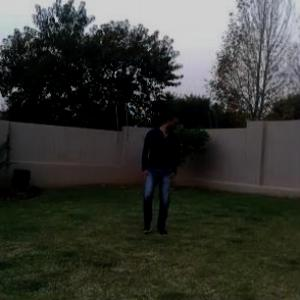follow: (140, 104, 178, 232)
